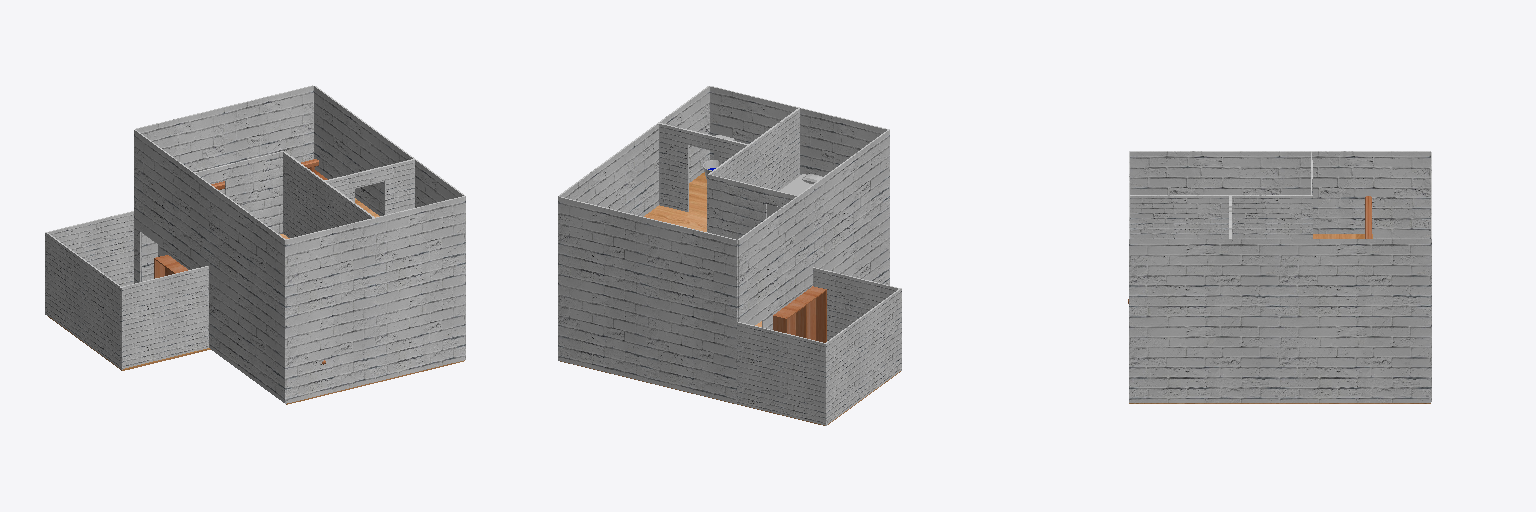
3 renders of one model, left to right at view 1: azimuth 30°, elevation 25°; view 2: azimuth 150°, elevation 25°; view 3: azimuth 270°, elevation 25°, orthographic.
Parts seen in each view (by area): view 1: Plane.001, Plane.030, Plane.003, Plane.016, Plane.004, Plane.017, Plane.010_Plane.011, Plane.015, Plane.013_Plane.014, Plane.002, Plane.028, Plane.029; view 2: Plane.003, Plane.030, Plane.015, Plane.001, Plane.004, Plane.017, Plane.010_Plane.011, Plane.016, Plane.013_Plane.014, Plane.028, Plane.002, Plane.005 (+2 smaller); view 3: Plane.004, Plane.030, Plane.010_Plane.011, Plane.002, Plane.029.
Part boxes in pixels (left/top/right/bottom): Plane.001: left=286, top=196, right=464, bottom=402; Plane.030: left=158, top=147, right=286, bottom=403; Plane.003: left=136, top=85, right=313, bottom=281; Plane.016: left=120, top=266, right=208, bottom=368; Plane.004: left=314, top=86, right=465, bottom=359; Plane.017: left=46, top=232, right=122, bottom=369; Plane.010_Plane.011: left=283, top=152, right=374, bottom=237; Plane.015: left=45, top=211, right=133, bottom=314; Plane.013_Plane.014: left=225, top=151, right=284, bottom=234; Plane.002: left=140, top=134, right=158, bottom=243; Plane.028: left=384, top=159, right=414, bottom=214; Plane.029: left=134, top=129, right=141, bottom=283; Plane.003: left=558, top=196, right=737, bottom=403; Plane.030: left=761, top=129, right=889, bottom=329; Plane.015: left=737, top=322, right=826, bottom=425; Plane.001: left=710, top=86, right=887, bottom=176; Plane.004: left=558, top=86, right=709, bottom=216; Plane.017: left=826, top=288, right=901, bottom=424; Plane.010_Plane.011: left=707, top=108, right=799, bottom=232; Plane.016: left=813, top=267, right=901, bottom=370; Plane.013_Plane.014: left=708, top=174, right=766, bottom=239; Plane.028: left=659, top=123, right=688, bottom=211; Plane.002: left=745, top=223, right=762, bottom=325; Plane.005: left=644, top=172, right=706, bottom=231; Plane.004: left=1129, top=239, right=1430, bottom=402; Plane.030: left=1129, top=151, right=1383, bottom=238; Plane.010_Plane.011: left=1130, top=195, right=1312, bottom=238; Plane.002: left=1383, top=151, right=1418, bottom=238; Plane.029: left=1419, top=151, right=1430, bottom=238.
Bounding box in the file's own units: 45.95 × 26.91 × 45.05.
18 materials, 5 textured.